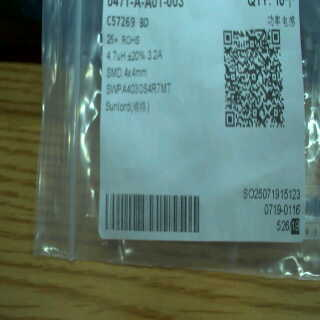4.7uH: (104, 46, 128, 64)
